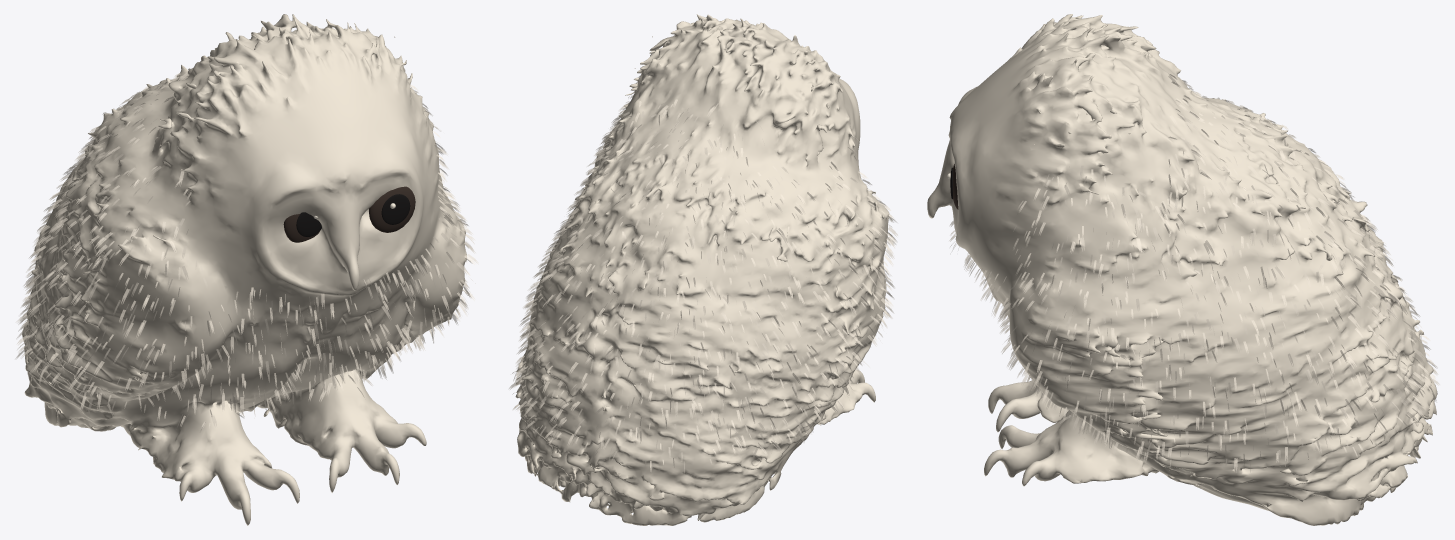
Rendered from run110_eyes_plus_softdown_ART_UNAPPROVED.glb.
The picture shows the model from 3 angles, left to right: view 1: azimuth 30°, elevation 25°; view 2: azimuth 150°, elevation 25°; view 3: azimuth 270°, elevation 25°; orthographic projection. The views are drawn at different scales.
Visible parts, largest first — view 1: actual_neural_juvenile_sculpt_softened_RESEARCH_ONLY, Run110_physically_sampled_native_mesh_down_not_svg, real_socket_registered_dark_open_eye_1, nested_small_pupil_1; view 2: actual_neural_juvenile_sculpt_softened_RESEARCH_ONLY, Run110_physically_sampled_native_mesh_down_not_svg; view 3: actual_neural_juvenile_sculpt_softened_RESEARCH_ONLY, Run110_physically_sampled_native_mesh_down_not_svg.
Boxes of the visible parts, bbox=[...] form: actual_neural_juvenile_sculpt_softened_RESEARCH_ONLY: bbox=[22, 14, 466, 525]; Run110_physically_sampled_native_mesh_down_not_svg: bbox=[15, 73, 478, 431]; real_socket_registered_dark_open_eye_1: bbox=[369, 186, 415, 232]; nested_small_pupil_1: bbox=[381, 194, 410, 224]; actual_neural_juvenile_sculpt_softened_RESEARCH_ONLY: bbox=[515, 14, 889, 525]; Run110_physically_sampled_native_mesh_down_not_svg: bbox=[509, 76, 897, 473]; actual_neural_juvenile_sculpt_softened_RESEARCH_ONLY: bbox=[927, 14, 1437, 525]; Run110_physically_sampled_native_mesh_down_not_svg: bbox=[949, 74, 1439, 471].
Bounding box in the file's own units: 1.58 × 1.9 × 1.96.
